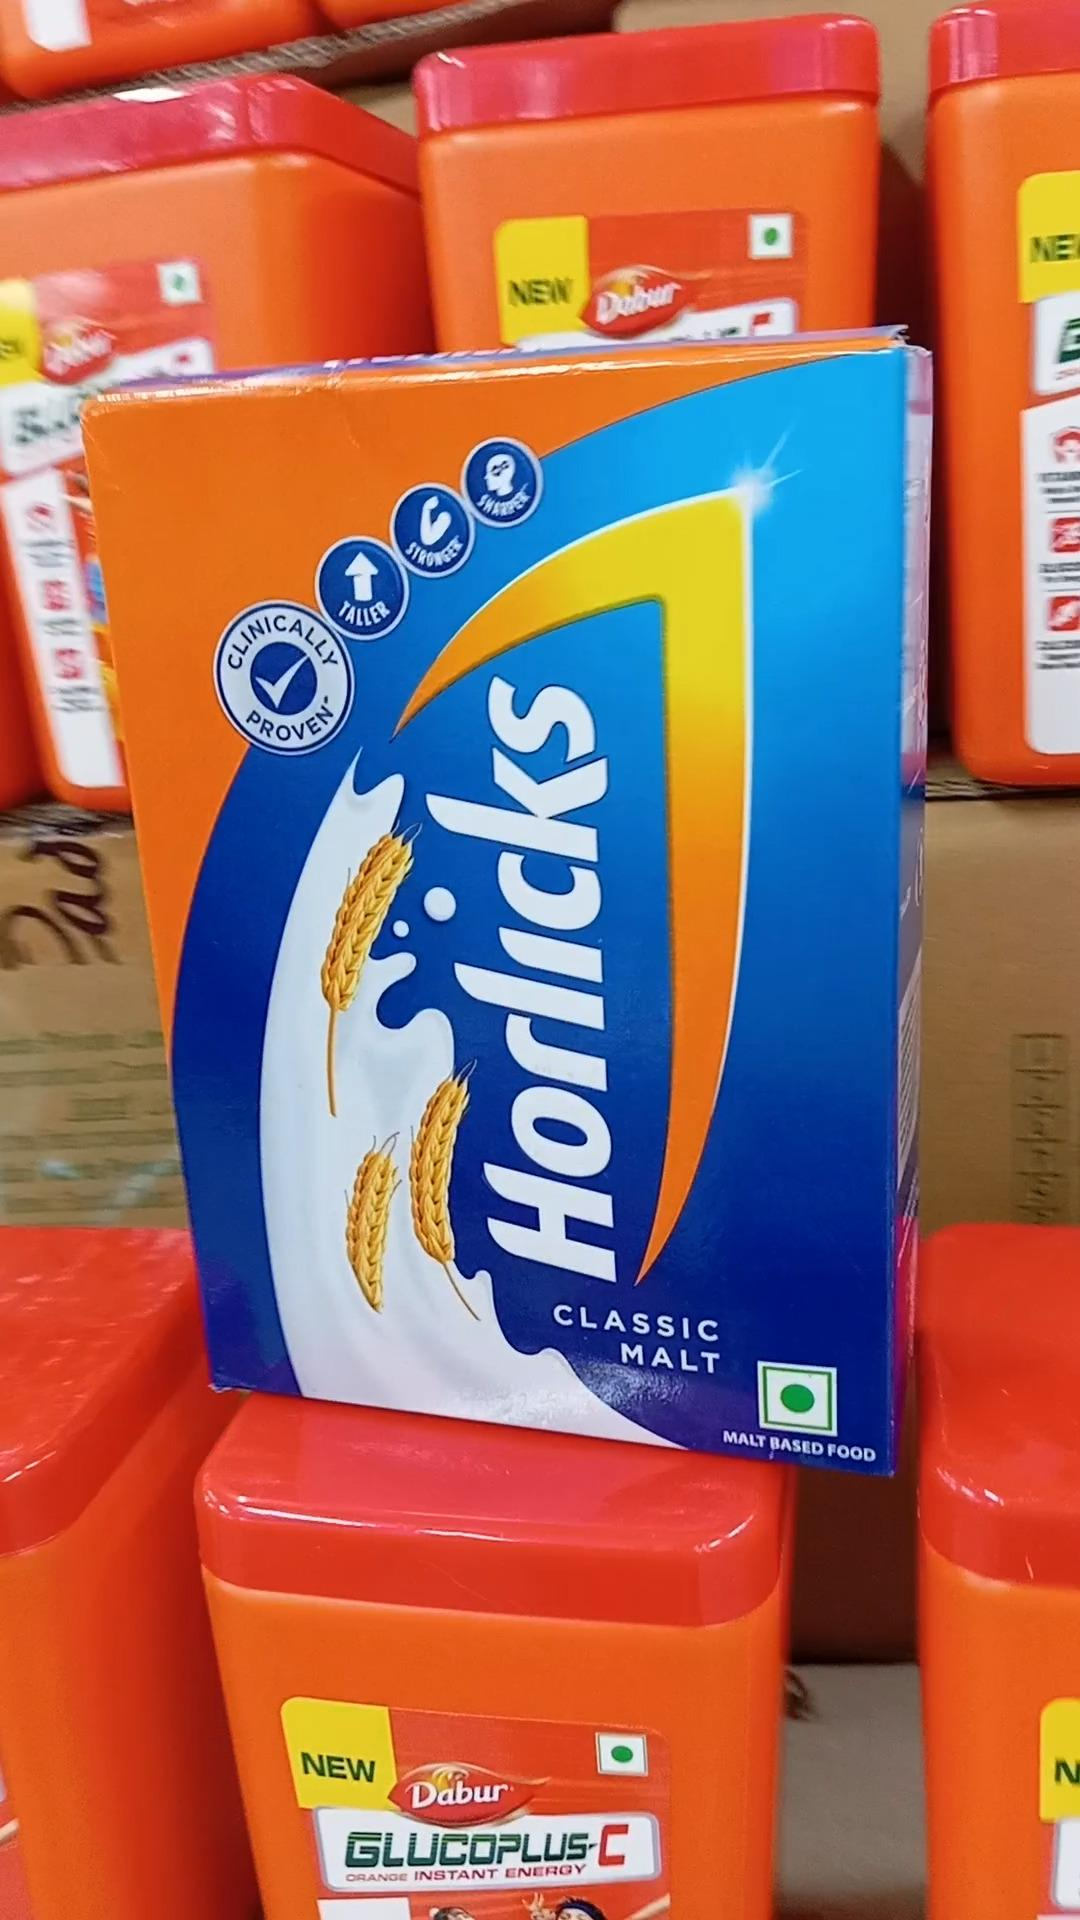HORLICK_CLASSIC_MALT_500_G_PACK: (117, 335, 899, 1476)
